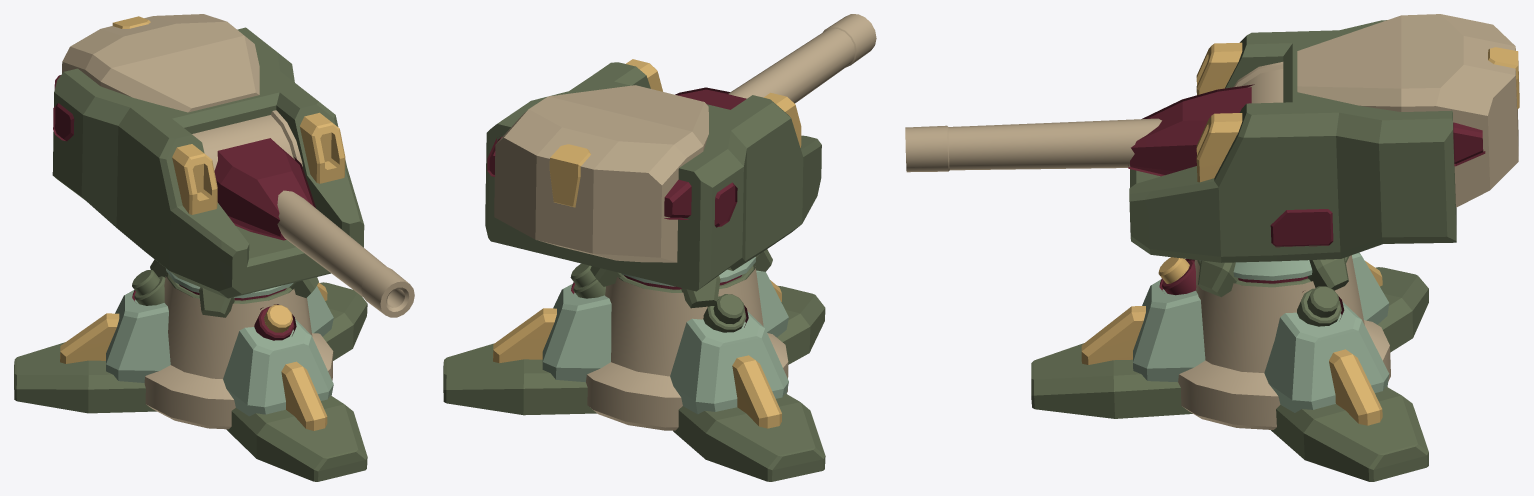
The model's file is Heavy_Evo2_.fbx.
3 renders of one model, left to right at view 1: azimuth 30°, elevation 25°; view 2: azimuth 150°, elevation 25°; view 3: azimuth 270°, elevation 25°, orthographic. The views are drawn at different scales.
Parts seen in each view (by area): view 1: body2, body2.004, base1.051, base1.064, body2.021, base1.069, body2.020, base1.062, base1.067, body2.022, body2.001, body2.002 (+12 smaller); view 2: body2.004, body2, base1.051, base1.069, base1.013, base1.067, body2.021, base1.058, base1.064, base1.068, base1.059, body2.003 (+11 smaller); view 3: body2, body2.004, base1.051, body2.021, base1.013, base1.064, base1.058, base1.062, body2.020, base1.069, base1.059, base1.063 (+12 smaller).
Part boxes in pixels (<box>): body2: <box>52,27,364,298</box>; body2.004: <box>62,14,259,112</box>; base1.051: <box>144,276,333,429</box>; base1.064: <box>226,395,367,481</box>; body2.021: <box>277,190,414,317</box>; base1.069: <box>14,342,156,413</box>; body2.020: <box>214,138,313,238</box>; base1.062: <box>223,318,333,416</box>; base1.067: <box>106,290,170,382</box>; body2.022: <box>192,110,302,170</box>; body2.001: <box>299,112,345,183</box>; body2.002: <box>172,144,217,214</box>; body2.004: <box>494,85,708,262</box>; body2: <box>485,62,821,291</box>; base1.051: <box>586,266,788,430</box>; base1.069: <box>673,393,825,481</box>; base1.013: <box>443,343,596,415</box>; base1.067: <box>670,311,788,414</box>; body2.021: <box>728,14,876,103</box>; base1.058: <box>542,283,611,382</box>; base1.064: <box>777,285,825,364</box>; base1.068: <box>732,355,781,428</box>; base1.059: <box>493,308,556,363</box>; body2.003: <box>549,144,590,207</box>; body2: <box>1129,20,1456,262</box>; body2.004: <box>1297,14,1518,207</box>; base1.051: <box>1178,255,1390,429</box>; body2.021: <box>905,118,1161,172</box>; base1.013: <box>1271,386,1428,481</box>; base1.064: <box>1031,343,1192,418</box>; base1.058: <box>1264,301,1389,412</box>; base1.062: <box>1133,279,1205,382</box>; body2.020: <box>1130,87,1251,174</box>; base1.069: <box>1376,267,1428,352</box>; base1.059: <box>1329,349,1382,425</box>; base1.063: <box>1081,306,1145,364</box>.
Bounding box in the file's own units: 1667 × 1385 × 2239.
